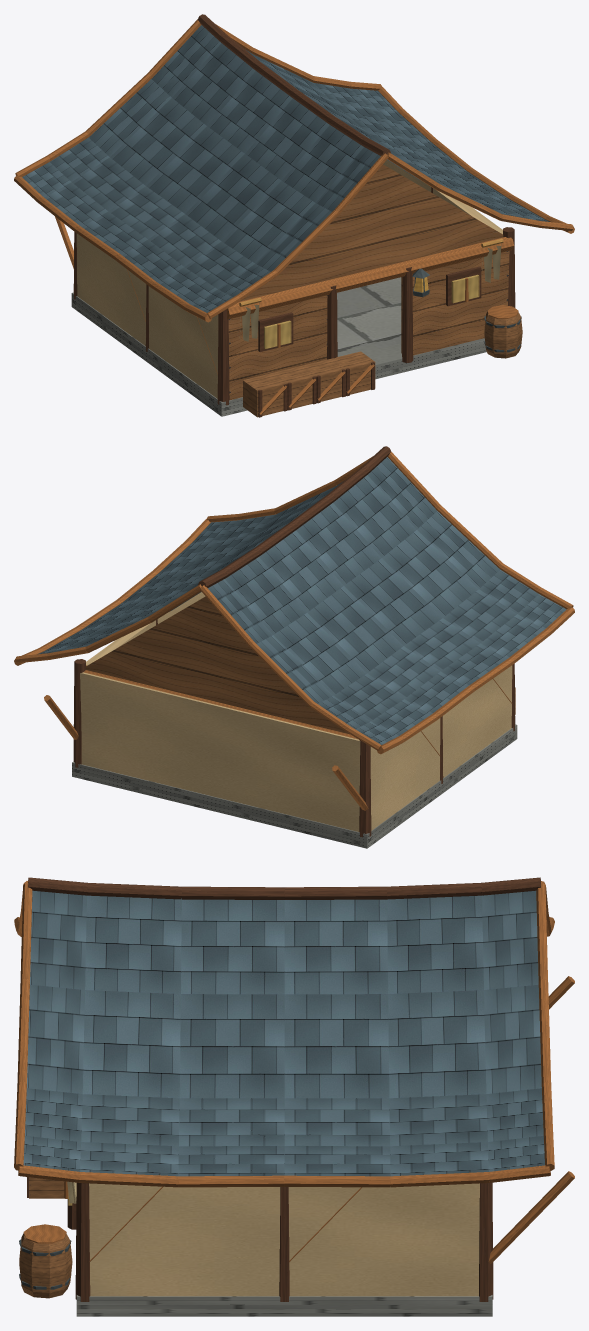
The model's file is store.glb.
The picture shows the model from 3 angles, top to bottom: view 1: azimuth 30°, elevation 25°; view 2: azimuth 150°, elevation 25°; view 3: azimuth 270°, elevation 25°; orthographic projection. The views are drawn at different scales.
Parts seen in each view (by area): view 1: store_F4; view 2: store_F4; view 3: store_F4.
Part boxes in pixels (x1,y1,x2,y2): store_F4: (14,14,574,417); store_F4: (14,446,574,848); store_F4: (14,877,574,1316).
Bounding box in the file's own units: 10.39 × 6.56 × 9.84.
1 material, 1 textured.
